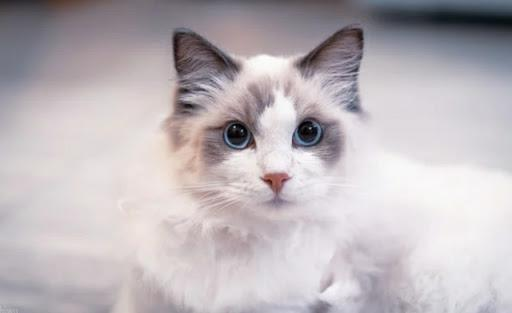ragdoll: (144, 1, 384, 254)
